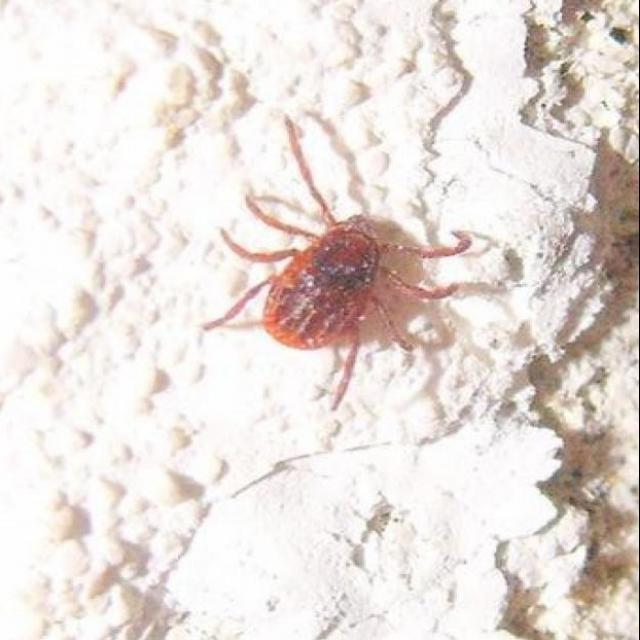Rhipicephalus Sanguineus-F: (204, 115, 497, 405)
